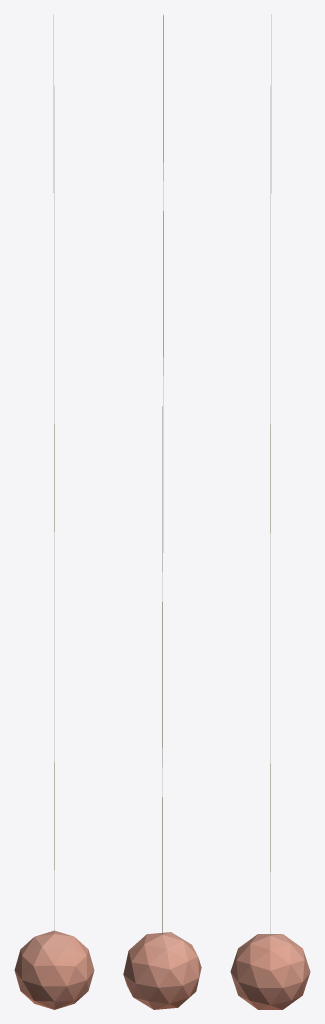
File: pom-pom.fbx
3 views of the same model, side by side, from view 1: azimuth 90°, elevation 25°; view 2: azimuth 210°, elevation 25°; view 3: azimuth 270°, elevation 25° (orthographic).
Parts seen in each view (by area): view 1: pom-pom; view 2: pom-pom; view 3: pom-pom.
Part boxes in pixels (box(x1,y1,x2,y2)): pom-pom: box(14, 14, 94, 1009); pom-pom: box(123, 14, 201, 1009); pom-pom: box(230, 14, 310, 1009).
Bounding box in the file's own units: 0.4685 × 6.74 × 0.4926.
